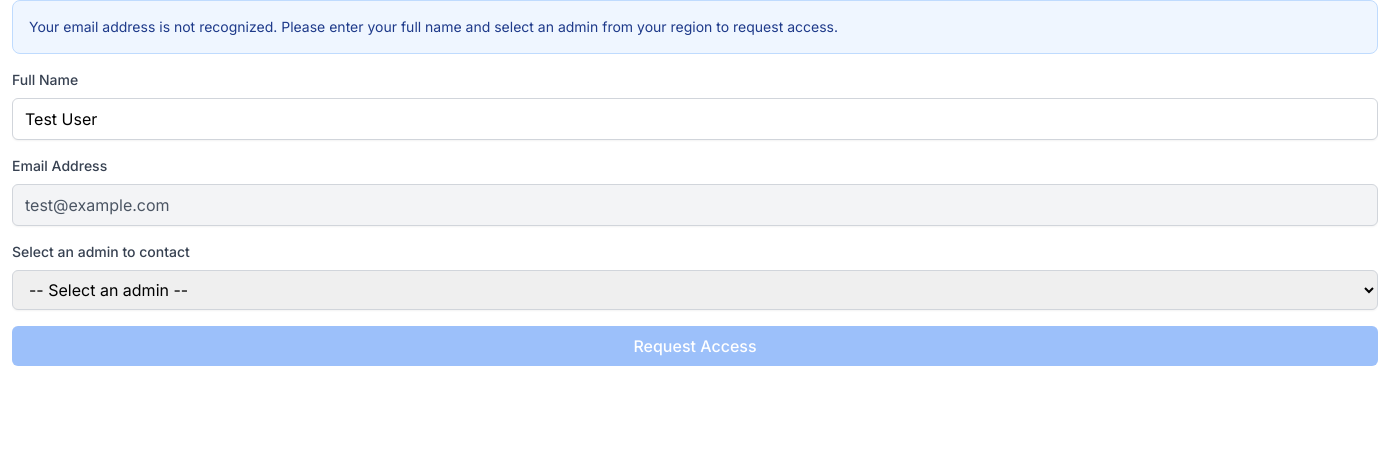
AdminApproverSelector › should handle admin selection
This screenshot has width=1390, height=453.
# Select an admin
Select "Admin User One (Test City, CA)" in the dropdown at (695, 290), box [12,270,1378,310]
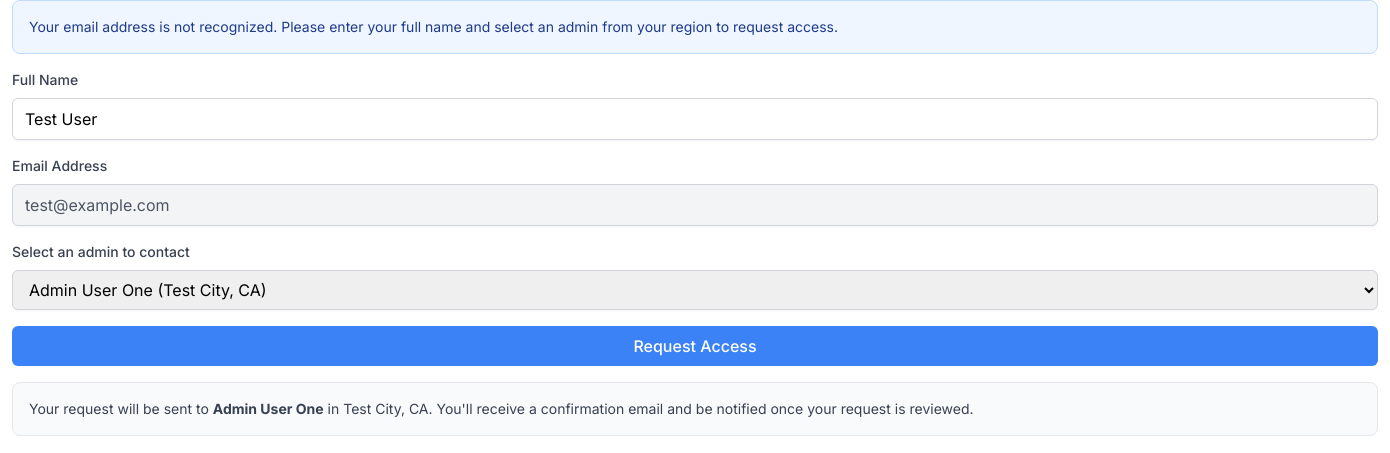
Expected: the text "Your request will be sent to" is shown, [29,400,213,417]
